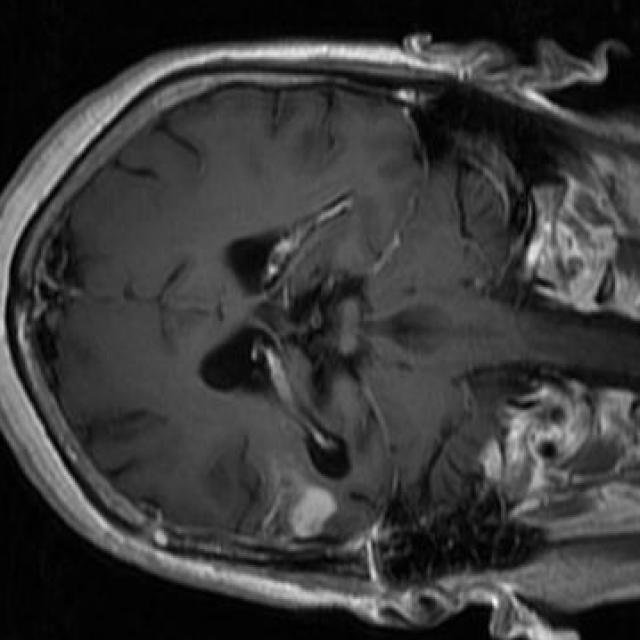glioma: (266, 469, 337, 540)
